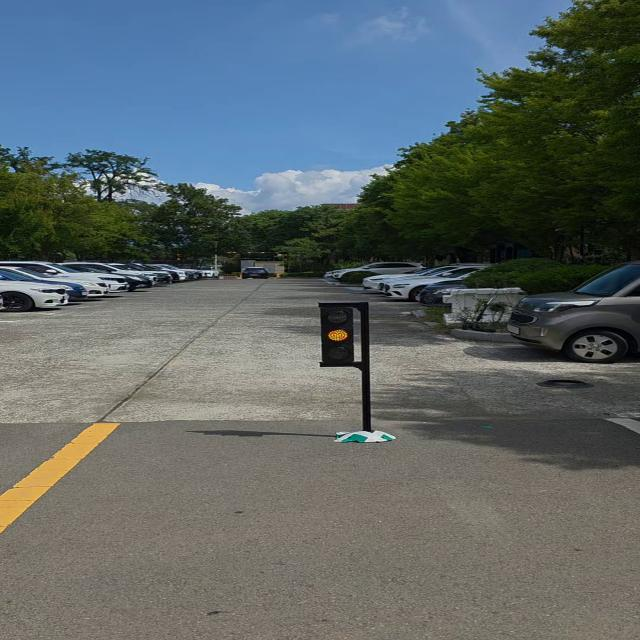yellow: (320, 306, 358, 366)
